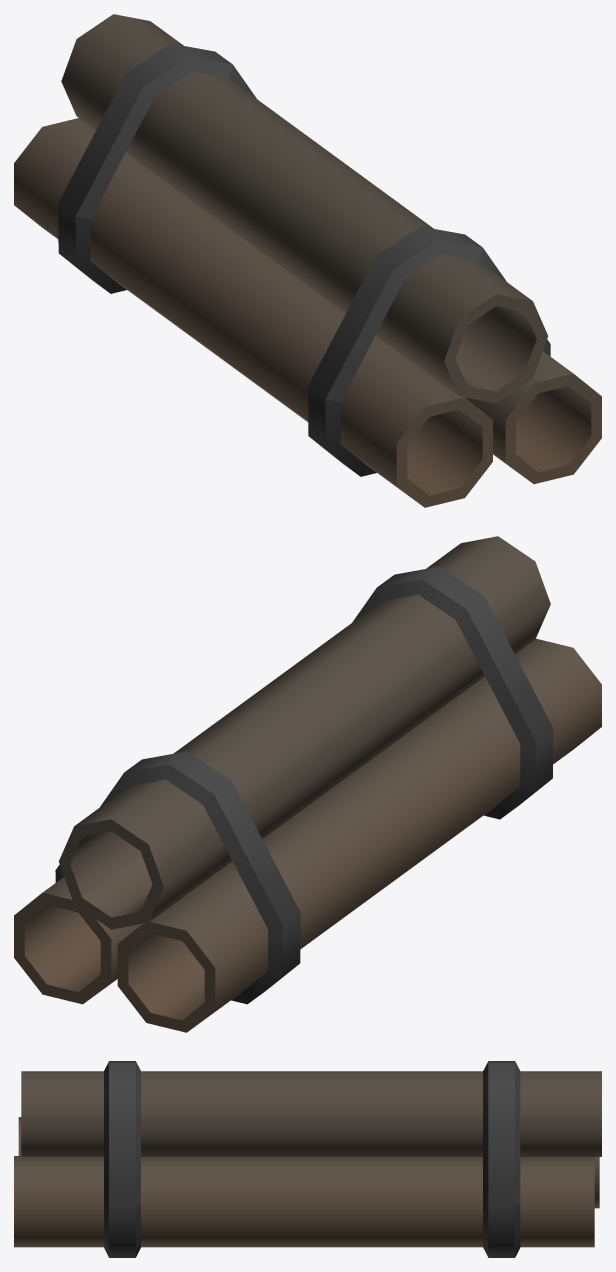
File: Pipes_C_2_2.fbx
3 views of the same model, one above another, from view 1: azimuth 30°, elevation 25°; view 2: azimuth 150°, elevation 25°; view 3: azimuth 270°, elevation 25° (orthographic). The views are drawn at different scales.
Parts seen in each view (by area): view 1: Pipes_C_2_2; view 2: Pipes_C_2_2; view 3: Pipes_C_2_2.
Part boxes in pixels (<box>): Pipes_C_2_2: <box>14,14,601,507</box>; Pipes_C_2_2: <box>14,536,601,1032</box>; Pipes_C_2_2: <box>14,1061,601,1257</box>.
Size of the model in its own units: 119 by 111 by 355.
